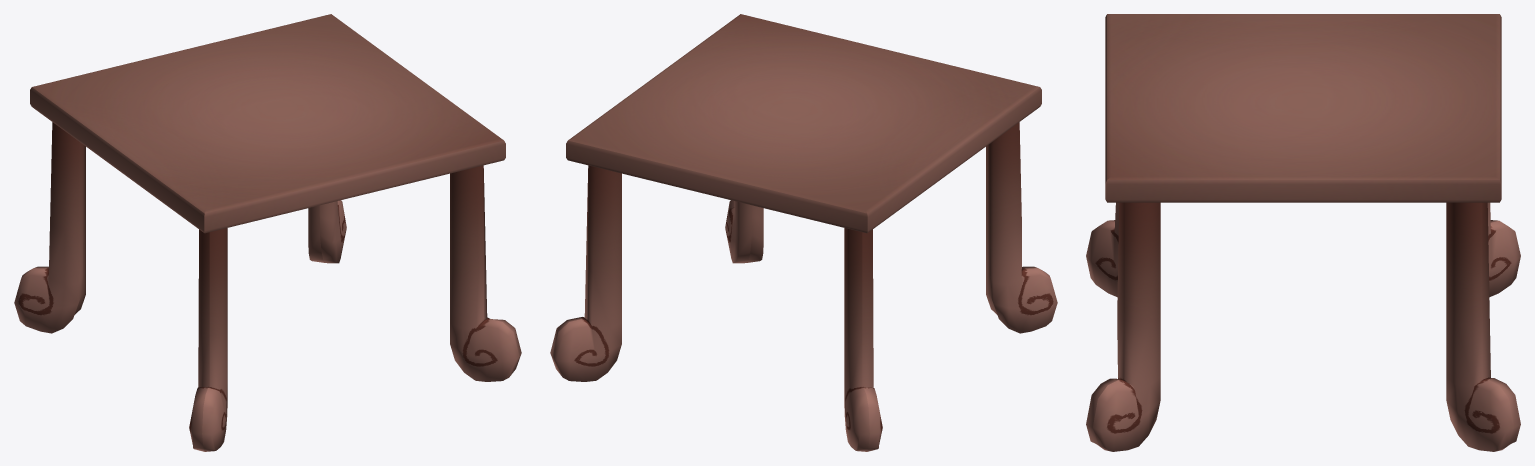
File: Table_1.fbx
3 renders of one model, left to right at view 1: azimuth 30°, elevation 25°; view 2: azimuth 150°, elevation 25°; view 3: azimuth 270°, elevation 25°, orthographic. The views are drawn at different scales.
Parts seen in each view (by area): view 1: Table_1; view 2: Table_1; view 3: Table_1.
Boxes of the visible parts, left/top/right/bottom form: Table_1: left=14, top=14, right=521, bottom=451; Table_1: left=550, top=14, right=1057, bottom=451; Table_1: left=1086, top=14, right=1520, bottom=451.
Size of the model in its own units: 1.25 by 0.8702 by 1.26.
